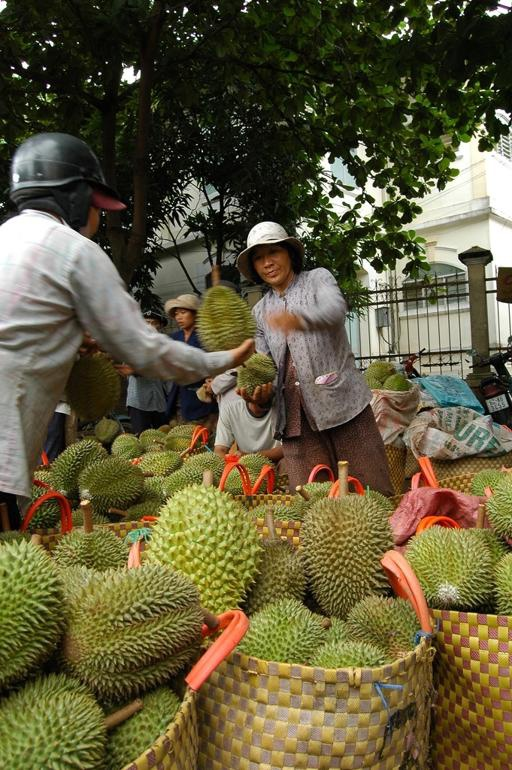non-vehicle: (465, 334, 512, 428), (397, 348, 426, 380)
